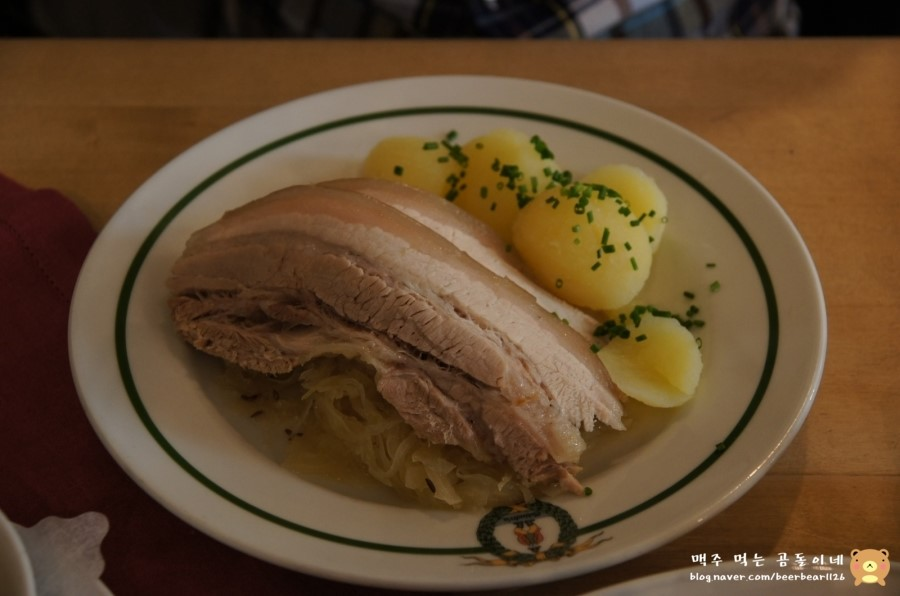boiled potatoes: (384, 139, 654, 252)
